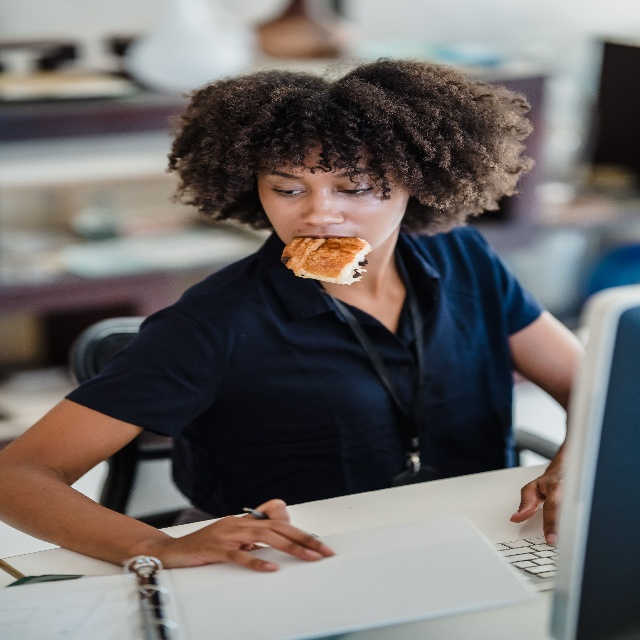Sin_guantes: (159, 498, 335, 574), (509, 440, 567, 546)
